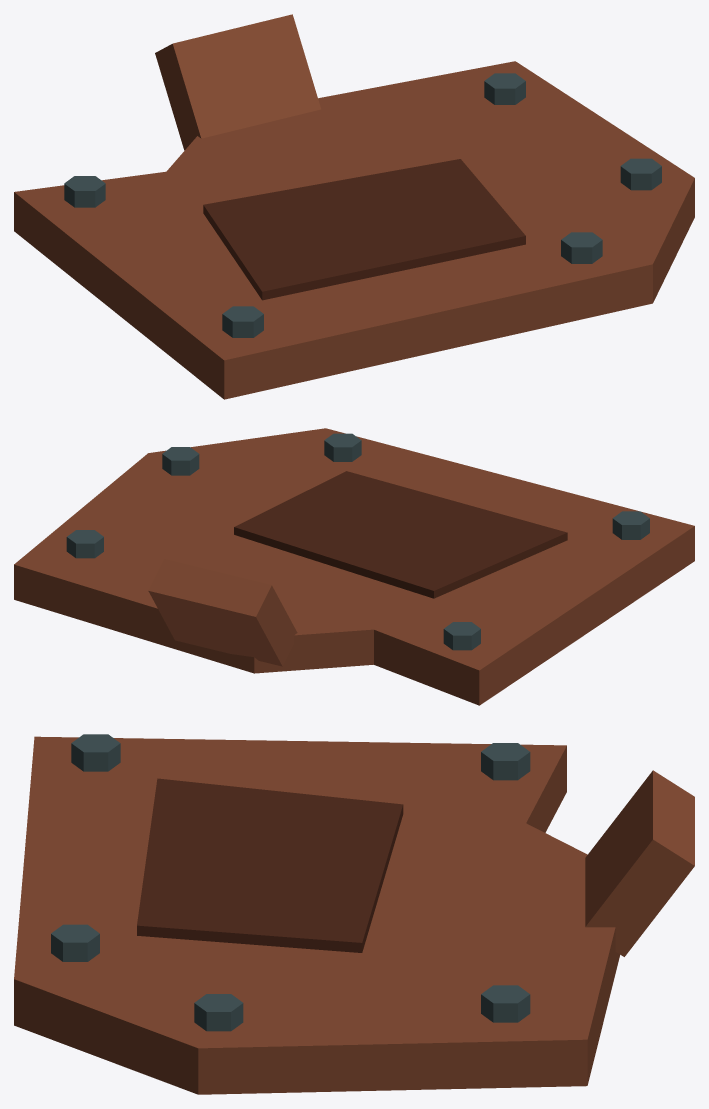
File: scrap_steel_plate.fbx
The picture shows the model from 3 angles, top to bottom: view 1: azimuth 30°, elevation 25°; view 2: azimuth 150°, elevation 25°; view 3: azimuth 270°, elevation 25°; orthographic projection. The views are drawn at different scales.
Parts seen in each view (by area): view 1: scrap_steel_plate; view 2: scrap_steel_plate; view 3: scrap_steel_plate.
Boxes of the visible parts, x1,y1,x2,y2 form: scrap_steel_plate: (14, 14, 694, 399); scrap_steel_plate: (14, 428, 694, 705); scrap_steel_plate: (14, 734, 694, 1094).
Bounding box in the file's own units: 0.36 × 0.0722 × 0.3324.
1 material, 1 textured.
